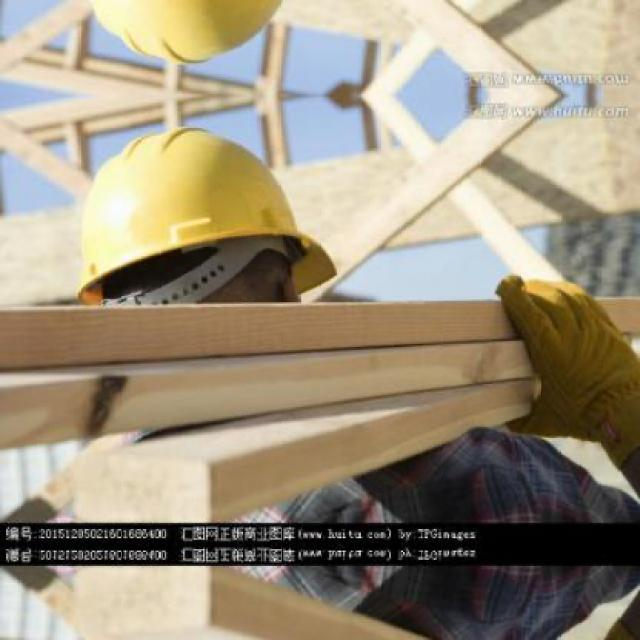helmet: (12, 117, 382, 367), (12, 0, 383, 76)
